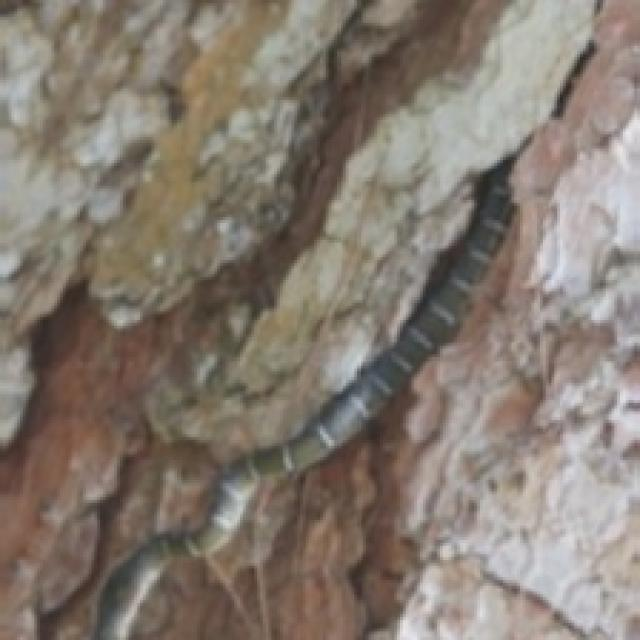reddish rat snake: (94, 154, 511, 637)
